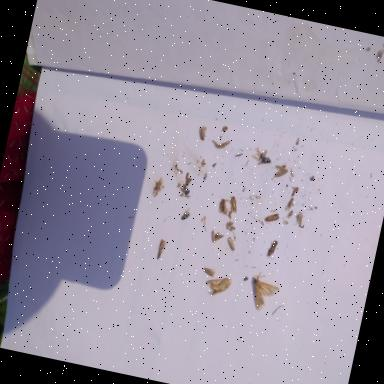pbw: (262, 212, 279, 228), (272, 164, 288, 180), (266, 240, 278, 260), (227, 196, 239, 214), (156, 240, 166, 260), (210, 230, 224, 244), (218, 198, 228, 215), (224, 236, 236, 250), (216, 138, 230, 150), (198, 125, 207, 141), (202, 267, 215, 277), (286, 197, 294, 211)
